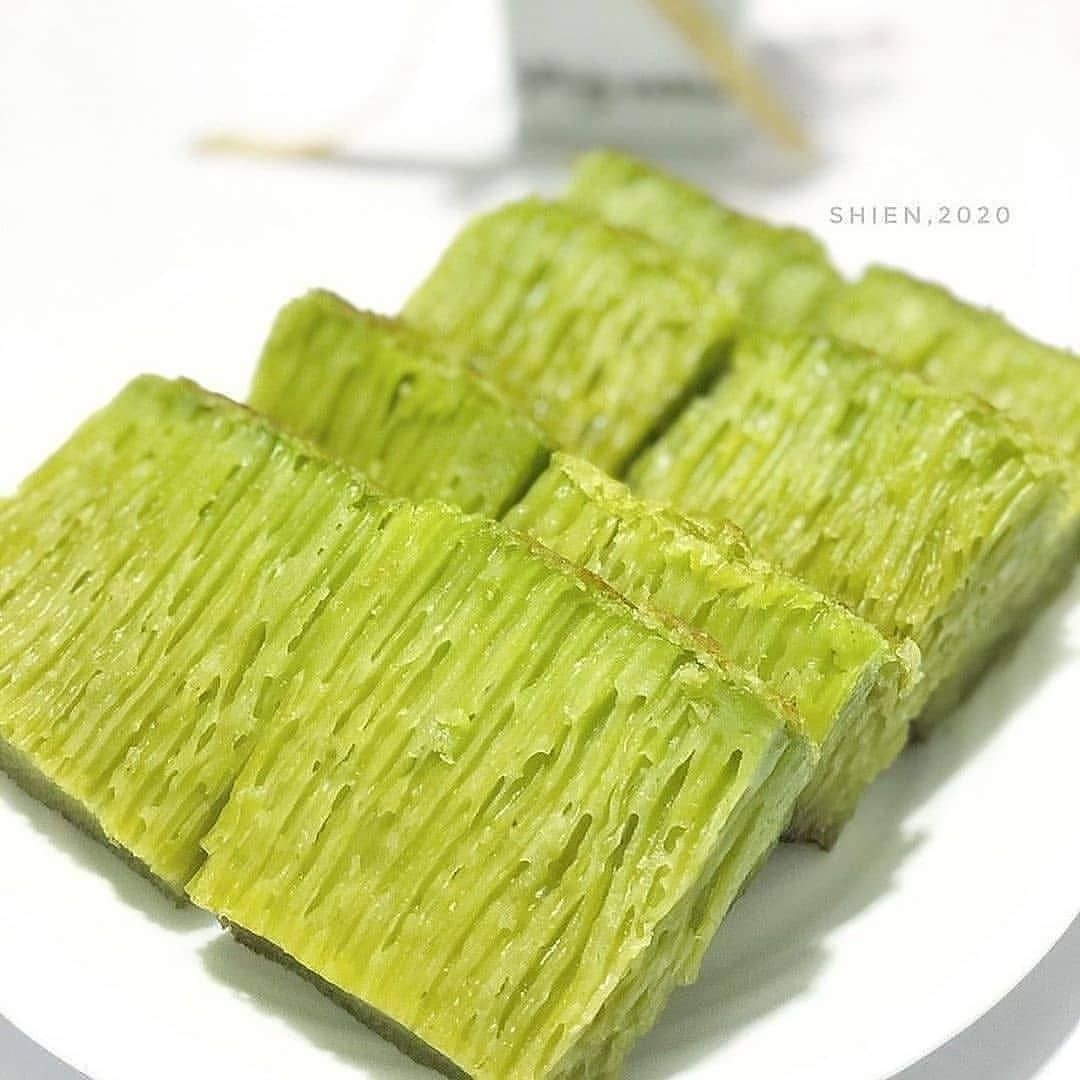bika_ambon: (13, 354, 749, 1072)
